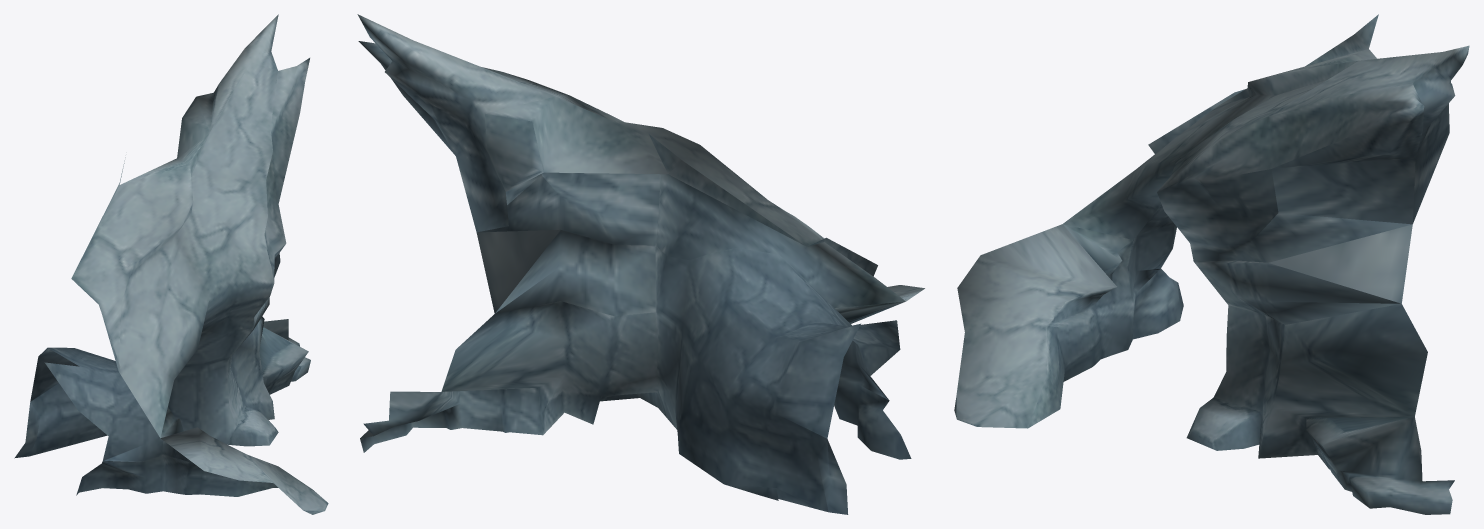
File: yanshi29_1.fbx
The picture shows the model from 3 angles, left to right: view 1: azimuth 30°, elevation 25°; view 2: azimuth 150°, elevation 25°; view 3: azimuth 270°, elevation 25°; orthographic projection. The views are drawn at different scales.
Parts seen in each view (by area): view 1: yanshi29_1; view 2: yanshi29_1; view 3: yanshi29_1.
Part boxes in pixels (<box>): yanshi29_1: <box>14,14,328,514</box>; yanshi29_1: <box>357,14,924,514</box>; yanshi29_1: <box>954,14,1469,514</box>.
Size of the model in its own units: 1135 by 1086 by 1079.
